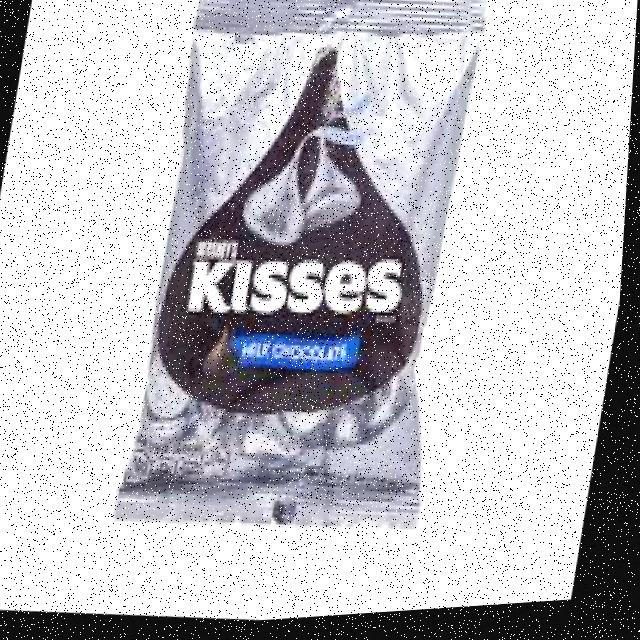kisses: (239, 126, 327, 262), (298, 131, 375, 247)
